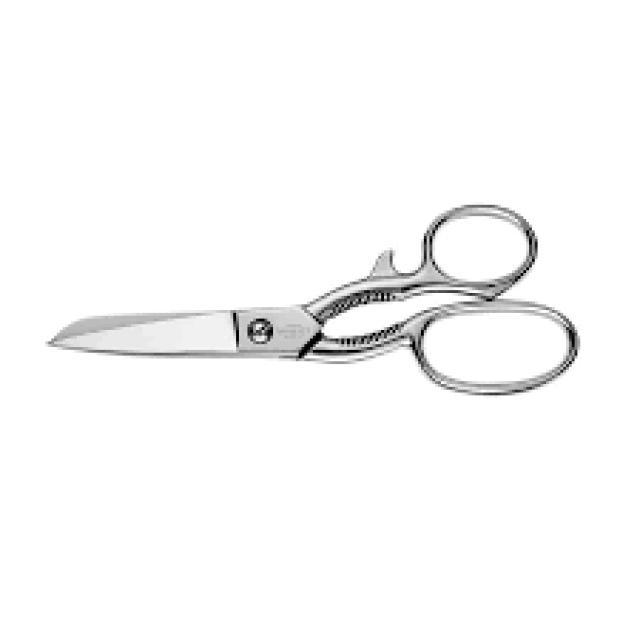scissor: (45, 202, 596, 398)
